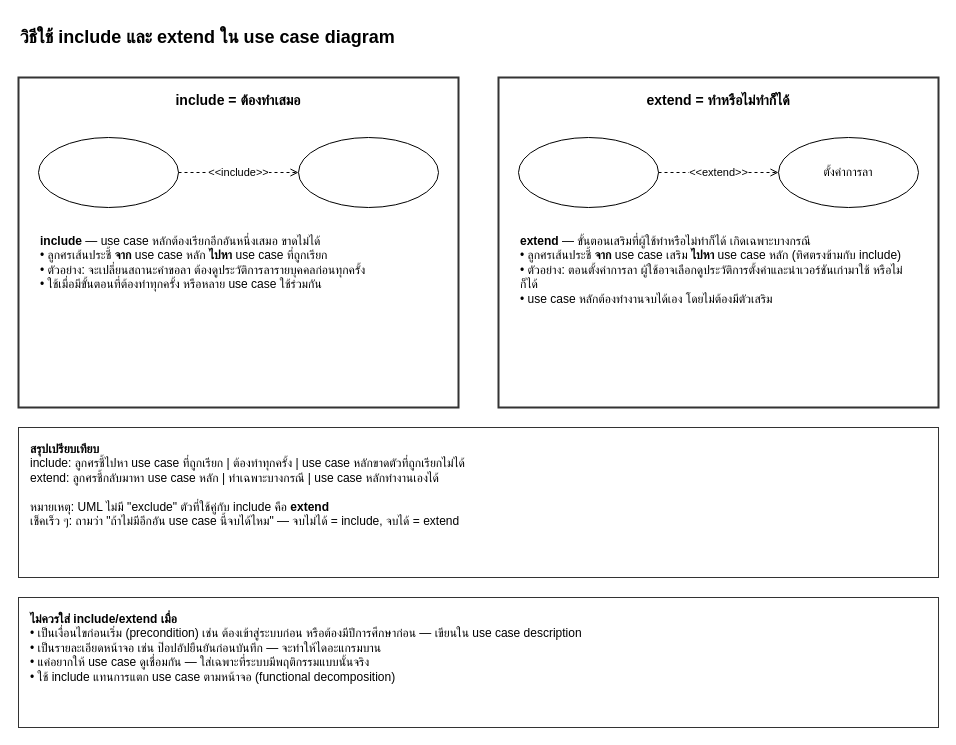
Image size: 956x745. Some labels were removed from this diagram. Here are the shapes that lost their labels. From the top down, the centre of each, then its label:
At point 108,172: "เปลี่ยนสถานะคำขอลาบุคลากร".
At point 368,172: "ดูประวัติการลารายบุคคล".
At point 588,172: "ดูและนำการตั้งค่าเวอร์ชันเก่ามาใช้".
